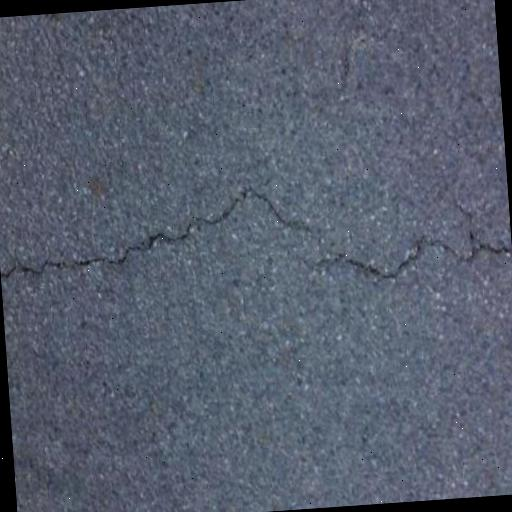spalling: (14, 172, 316, 298), (304, 223, 507, 285)
